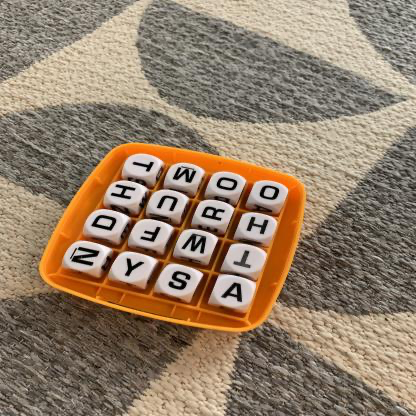a: (213, 278, 255, 308)
d: (87, 211, 125, 238)
f: (131, 220, 170, 249)
h: (107, 181, 145, 207), (240, 215, 277, 241)
m: (168, 164, 204, 188)
n: (66, 243, 107, 271)
o: (252, 182, 288, 206), (210, 173, 244, 197)
r: (196, 202, 233, 227)
s: (160, 267, 200, 298)
t: (227, 246, 267, 275), (126, 155, 160, 177)
u: (150, 191, 187, 216)
w: (178, 231, 217, 259)
y: (113, 254, 154, 285)
